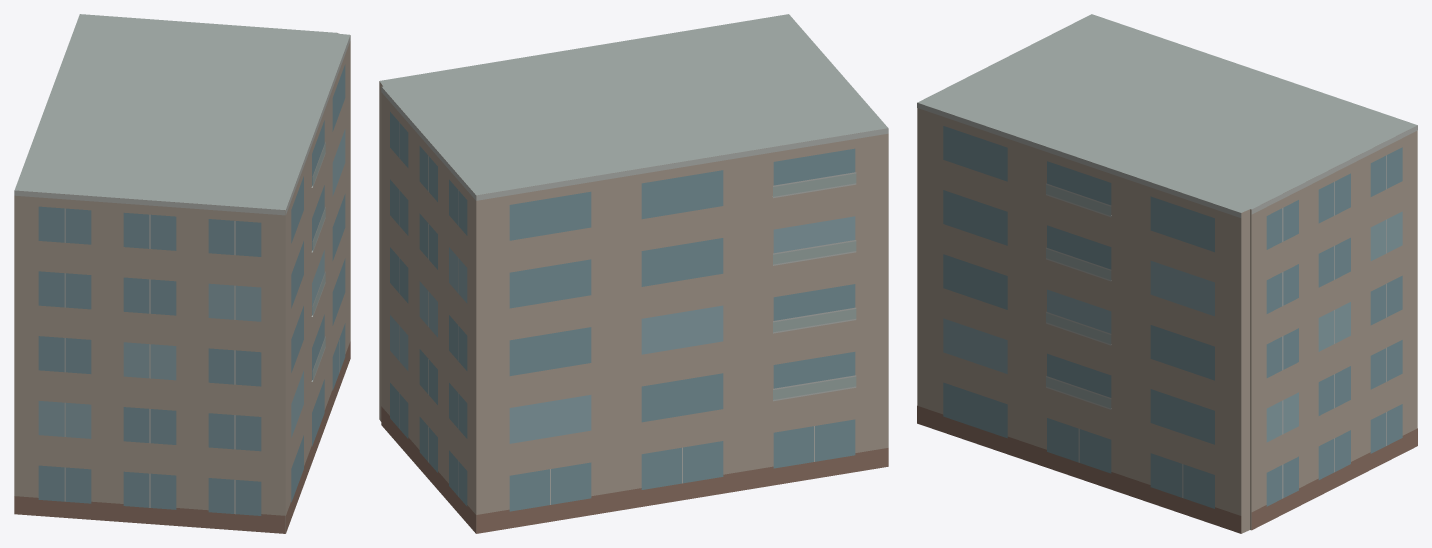
Rendered from survey-upis-32670777.glb.
3 views of the same model, side by side, from view 1: azimuth 30°, elevation 25°; view 2: azimuth 150°, elevation 25°; view 3: azimuth 270°, elevation 25° (orthographic). The views are drawn at different scales.
Visible parts, largest first — view 1: survey-upis-32670777.tmp; view 2: survey-upis-32670777.tmp; view 3: survey-upis-32670777.tmp.
Boxes of the visible parts, bbox=[...] form: survey-upis-32670777.tmp: bbox=[14, 14, 350, 533]; survey-upis-32670777.tmp: bbox=[379, 14, 888, 533]; survey-upis-32670777.tmp: bbox=[917, 14, 1417, 533].
Bounding box in the file's own units: 20.01 × 15.04 × 21.27.
